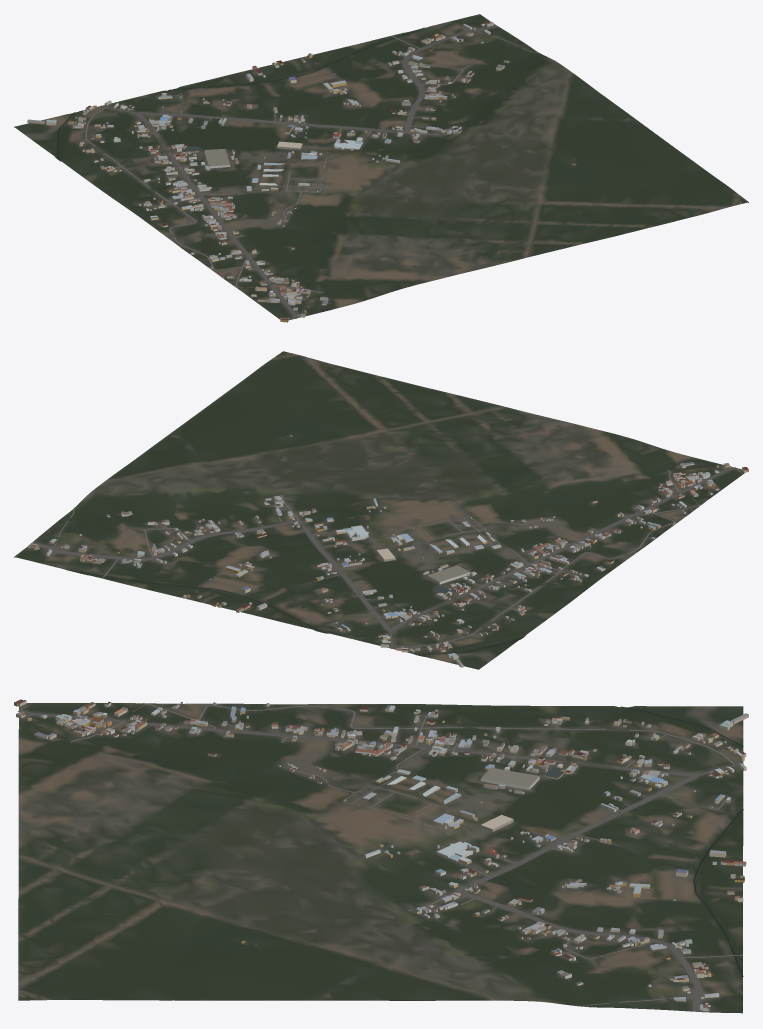
The picture shows the model from 3 angles, top to bottom: view 1: azimuth 30°, elevation 25°; view 2: azimuth 150°, elevation 25°; view 3: azimuth 270°, elevation 25°; orthographic projection. The views are drawn at different scales.
Visible parts, largest first — view 1: ground, buildings, roads; view 2: ground, buildings, roads; view 3: ground, buildings, roads, water.
Part boxes in pixels (x1,y1,x2,y2): ground: (14, 14, 748, 320); buildings: (27, 21, 575, 322); roads: (85, 25, 741, 319); ground: (14, 351, 744, 669); buildings: (28, 434, 748, 667); roads: (31, 353, 740, 648); ground: (18, 703, 743, 1013); buildings: (14, 699, 748, 1011); roads: (18, 703, 743, 1011); water: (620, 706, 743, 977).
Bounding box in the file's own units: 1406 × 32.44 × 1421.
